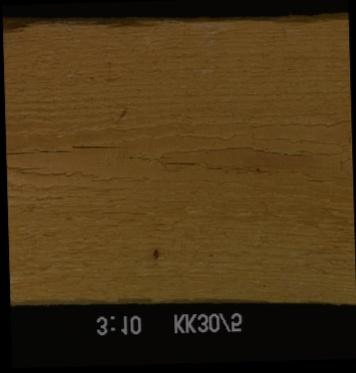small_knot: (147, 246, 161, 263)
split: (163, 156, 277, 181), (5, 140, 124, 162), (297, 172, 343, 188)
wave: (2, 13, 169, 34), (10, 294, 197, 306), (228, 14, 347, 29)
